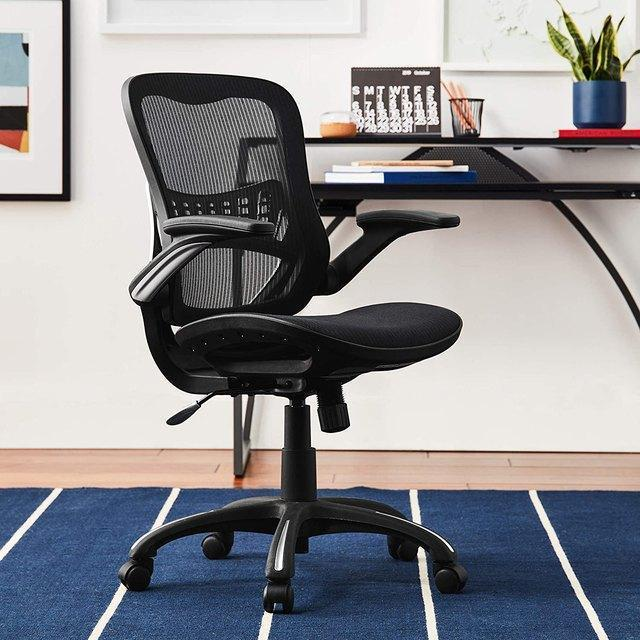chair: (118, 73, 469, 615)
